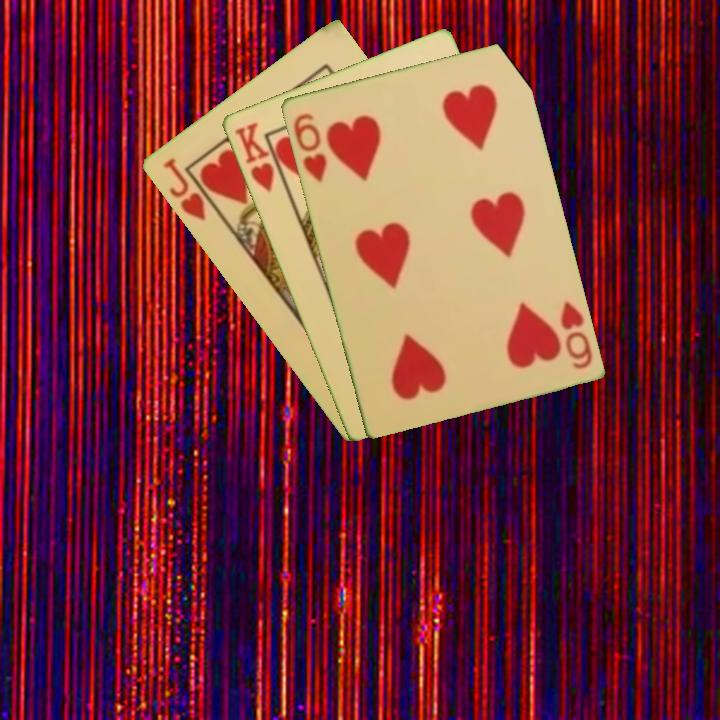6h: (289, 109, 330, 185), (556, 297, 595, 372)
Jh: (159, 154, 208, 224)
Kh: (230, 118, 288, 195)
